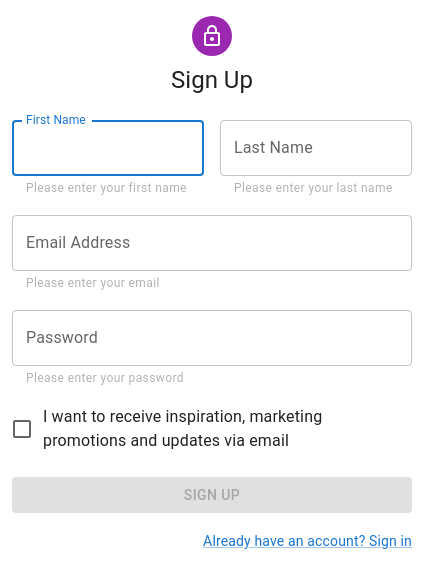
Test: Page SignUp › should check last name validation
This screenshot has width=429, height=566.
Expected: the text "First uppercased letter" is not shown
Type "lastname" into the field with test id "last-name-input" at coordinates (316, 148), box [220,120,412,176]
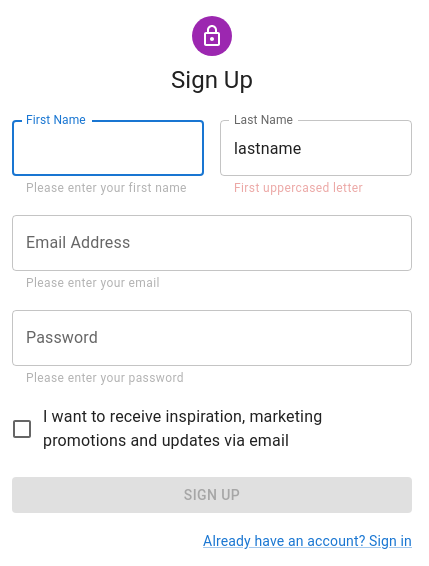
Now the text "First uppercased letter" is shown, box [234,181,363,195]
Replace the text in the field with test id "last-name-input" with "Lastname" at coordinates (316, 148), box [220,120,412,176]
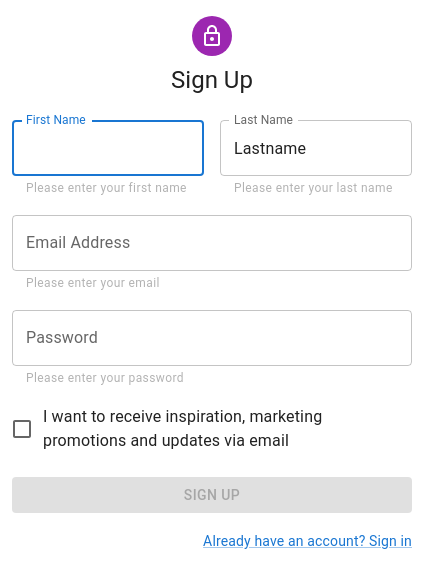
Now the text "First uppercased letter" is gone
